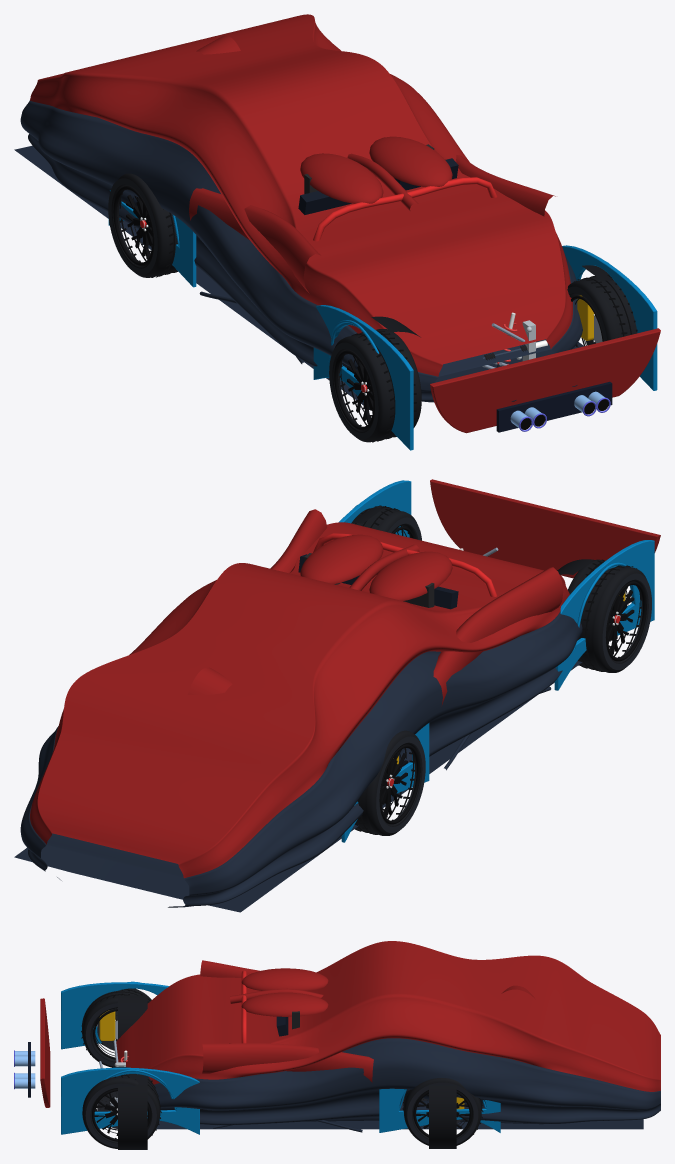
The model's file is sports_coupe_gt.glb.
The picture shows the model from 3 angles, top to bottom: view 1: azimuth 30°, elevation 25°; view 2: azimuth 150°, elevation 25°; view 3: azimuth 270°, elevation 25°; orthographic projection. The views are drawn at different scales.
Visible parts, largest first — view 1: Body_Upper_Shell_Paint, Body_Lower_Diffuser_Carbon, Rear_Fascia_And_Venturi_Deck, Tire_Seamless_Radial_Casing (×3), Double_Bubble_Roof_Assembly, Rear_Fender_LH, Tire_Assembly_HighDetail (×3), Flank_LH, Exhaust_Tips_Surround_Assembly, Wheel_Rim_Assembly_HighDetail (×2), Rear_Fender_RH, Body_Flat_Floor_Carbon (+5 smaller); view 2: Body_Upper_Shell_Paint, Body_Lower_Diffuser_Carbon, Rear_Fascia_And_Venturi_Deck, Double_Bubble_Roof_Assembly, Tire_Seamless_Radial_Casing (×3), Body_Flat_Floor_Carbon, Flank_LH, Rear_Fender_LH, Wheel_Rim_Assembly_HighDetail (×2), Tire_Assembly_HighDetail (×2), Rear_Fender_RH, Flank_RH (+3 smaller); view 3: Body_Upper_Shell_Paint, Body_Lower_Diffuser_Carbon, Rear_Fender_RH, Flank_RH, Double_Bubble_Roof_Assembly, Front_Fender_RH, Tire_Seamless_Radial_Casing (×3), Rear_Fender_LH, Body_Flat_Floor_Carbon, Tire_Assembly_HighDetail (×3), Wheel_Rim_Assembly_HighDetail (×2), Rear_Fascia_And_Venturi_Deck (+4 smaller).
Boxes of the visible parts, bbox=[...] form: Body_Upper_Shell_Paint: bbox=[30, 14, 572, 376]; Body_Lower_Diffuser_Carbon: bbox=[20, 100, 582, 402]; Rear_Fascia_And_Venturi_Deck: bbox=[430, 328, 660, 433]; Tire_Seamless_Radial_Casing (×3): bbox=[111, 173, 637, 442]; Double_Bubble_Roof_Assembly: bbox=[300, 136, 452, 211]; Rear_Fender_LH: bbox=[313, 305, 420, 450]; Tire_Assembly_HighDetail (×3): bbox=[108, 178, 637, 442]; Flank_LH: bbox=[189, 188, 320, 363]; Exhaust_Tips_Surround_Assembly: bbox=[496, 381, 612, 432]; Wheel_Rim_Assembly_HighDetail (×2): bbox=[113, 186, 374, 430]; Rear_Fender_RH: bbox=[562, 245, 657, 390]; Body_Flat_Floor_Carbon: bbox=[14, 145, 583, 410]; Body_Upper_Shell_Paint: bbox=[30, 522, 569, 878]; Body_Lower_Diffuser_Carbon: bbox=[20, 611, 582, 907]; Rear_Fascia_And_Venturi_Deck: bbox=[430, 479, 660, 578]; Double_Bubble_Roof_Assembly: bbox=[300, 534, 452, 600]; Tire_Seamless_Radial_Casing (×3): bbox=[351, 506, 648, 835]; Body_Flat_Floor_Carbon: bbox=[14, 661, 582, 912]; Flank_LH: bbox=[433, 567, 563, 770]; Rear_Fender_LH: bbox=[554, 540, 654, 690]; Wheel_Rim_Assembly_HighDetail (×2): bbox=[379, 581, 646, 824]; Tire_Assembly_HighDetail (×2): bbox=[355, 559, 651, 834]; Rear_Fender_RH: bbox=[339, 480, 411, 537]; Flank_RH: bbox=[270, 509, 327, 573]; Body_Upper_Shell_Paint: bbox=[115, 941, 660, 1091]; Body_Lower_Diffuser_Carbon: bbox=[154, 1038, 660, 1125]; Rear_Fender_RH: bbox=[61, 1067, 199, 1149]; Flank_RH: bbox=[200, 1043, 373, 1132]; Double_Bubble_Roof_Assembly: bbox=[230, 968, 328, 1016]; Front_Fender_RH: bbox=[379, 1084, 500, 1148]; Tire_Seamless_Radial_Casing (×3): bbox=[82, 988, 481, 1148]; Rear_Fender_LH: bbox=[61, 981, 168, 1049]; Body_Flat_Floor_Carbon: bbox=[156, 1119, 643, 1129]; Tire_Assembly_HighDetail (×3): bbox=[81, 989, 483, 1147]; Wheel_Rim_Assembly_HighDetail (×2): bbox=[92, 1088, 472, 1141]; Rear_Fascia_And_Venturi_Deck: bbox=[40, 998, 50, 1107].
Bounding box in the file's own units: 2.21 × 1.36 × 5.63.
